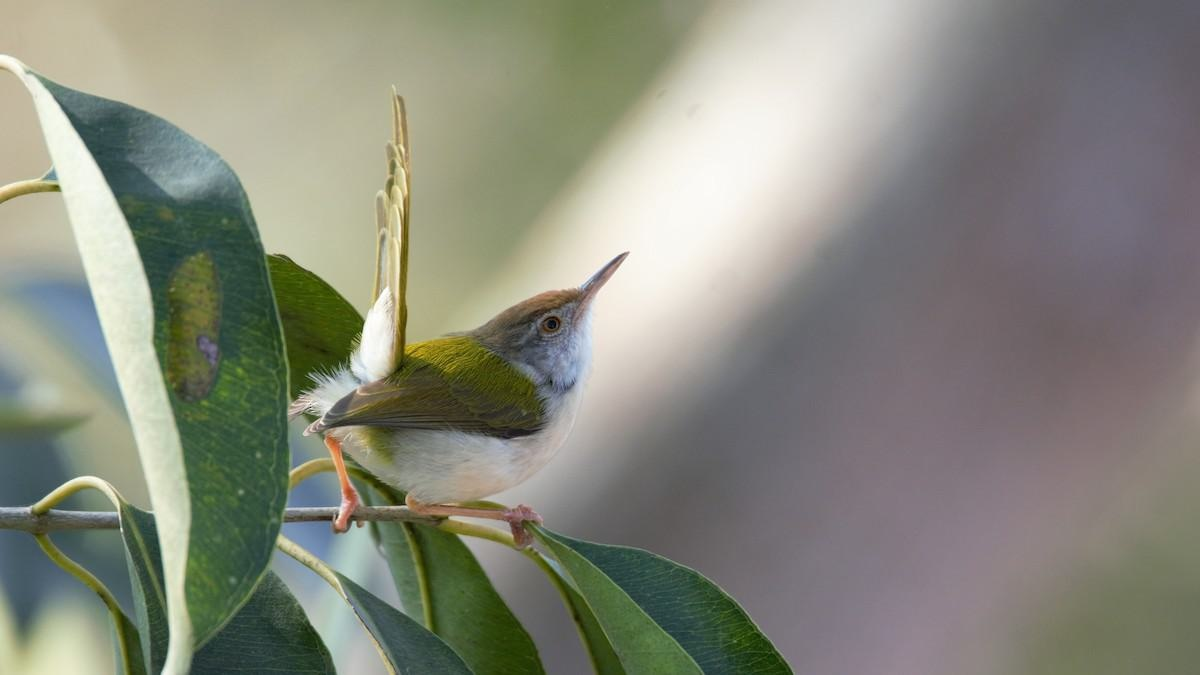tailorbird: (271, 55, 661, 581)
